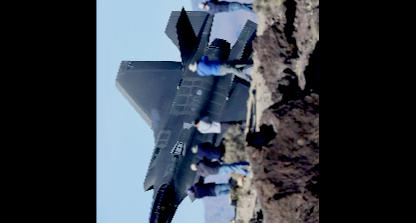F22: (114, 6, 259, 222)
